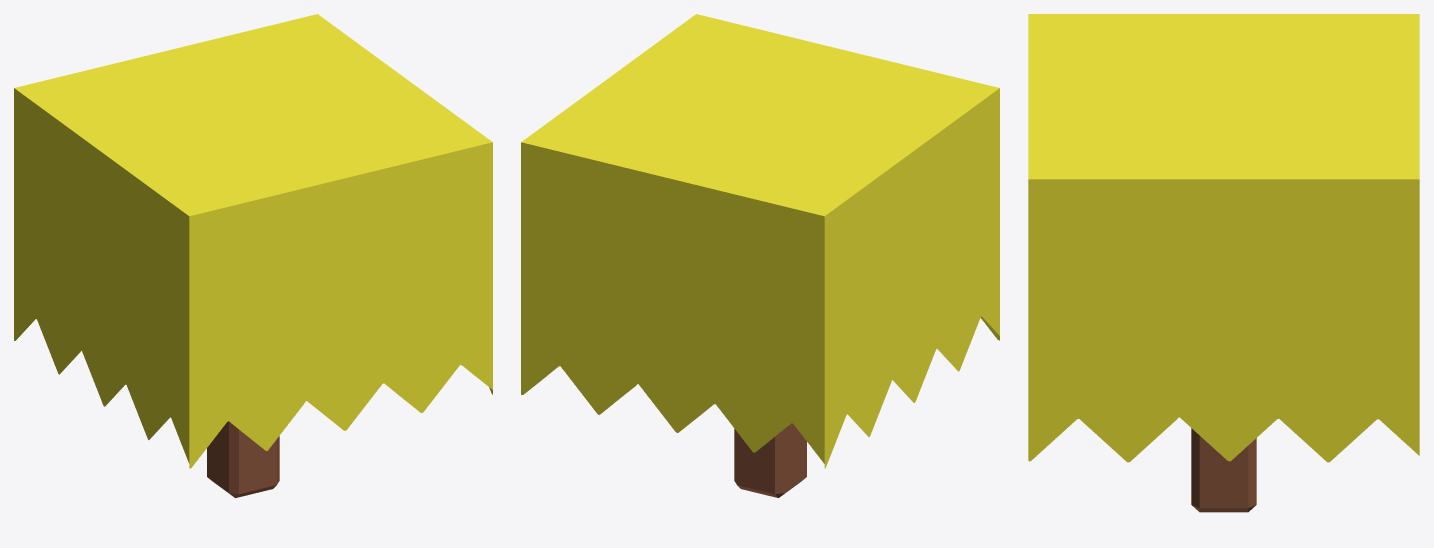
File: Bush 1.fbx
3 renders of one model, left to right at view 1: azimuth 30°, elevation 25°; view 2: azimuth 150°, elevation 25°; view 3: azimuth 270°, elevation 25°, orthographic. The views are drawn at different scales.
Visible parts, largest first — view 1: Bush_1, Trunk; view 2: Bush_1, Trunk; view 3: Bush_1, Trunk.
Boxes of the visible parts, x1=… form: Bush_1: x1=14, y1=14, x2=492, y2=468; Trunk: x1=207, y1=421, x2=279, y2=497; Bush_1: x1=521, y1=14, x2=999, y2=468; Trunk: x1=734, y1=423, x2=806, y2=497; Bush_1: x1=1028, y1=14, x2=1419, y2=462; Trunk: x1=1191, y1=428, x2=1256, y2=512.
Size of the model in its own units: 0.6 by 0.695 by 0.6.
